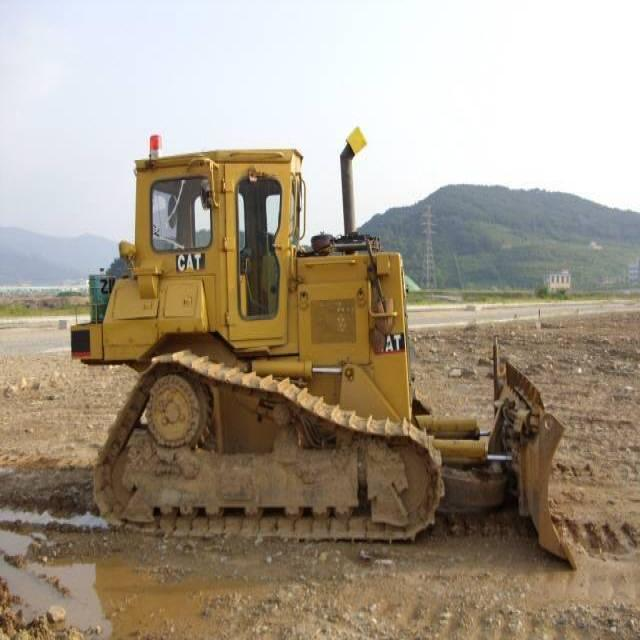buldozerpayloadergrader: (60, 120, 579, 565)
